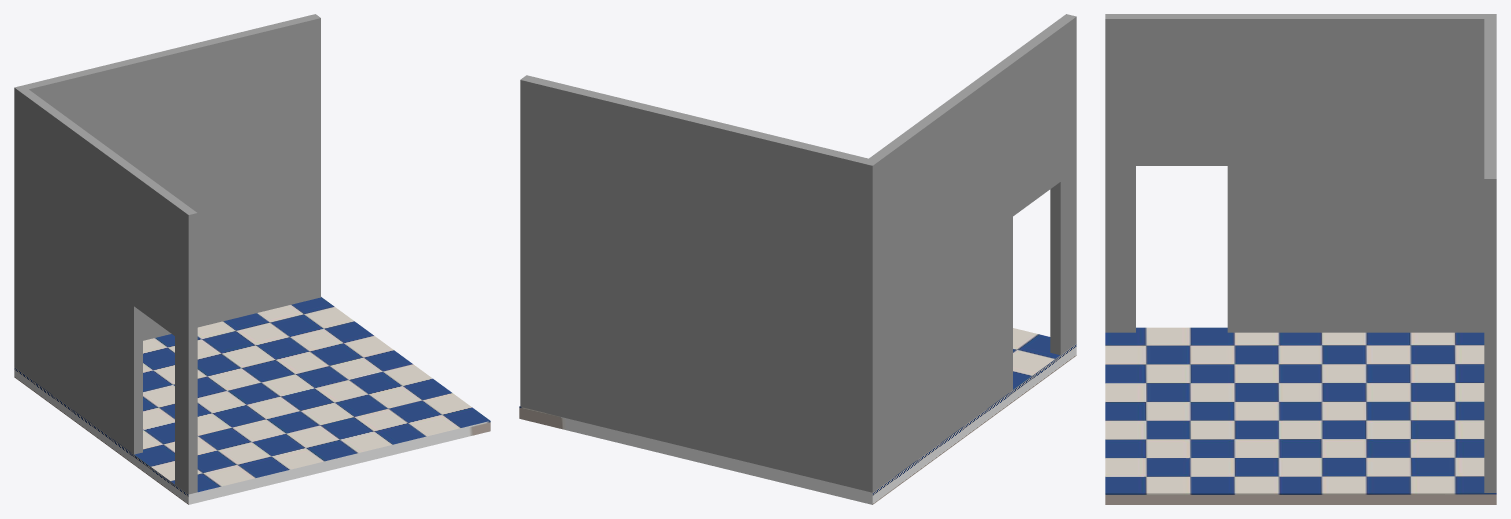
File: WasherRoom.fbx
3 views of the same model, side by side, from view 1: azimuth 30°, elevation 25°; view 2: azimuth 150°, elevation 25°; view 3: azimuth 270°, elevation 25° (orthographic). The views are drawn at different scales.
Visible parts, largest first — view 1: left_foor_pCube3, left_foor_pCube4, pCube1; view 2: left_foor_pCube3, left_foor_pCube4, pCube1; view 3: left_foor_pCube4, pCube1, left_foor_pCube3.
Boxes of the visible parts, bbox=[...] form: left_foor_pCube3: bbox=[23, 14, 320, 340]; left_foor_pCube4: bbox=[14, 85, 197, 494]; pCube1: bbox=[14, 297, 490, 504]; left_foor_pCube3: bbox=[520, 75, 868, 489]; left_foor_pCube4: bbox=[862, 14, 1076, 492]; pCube1: bbox=[519, 328, 1076, 504]; left_foor_pCube4: bbox=[1105, 14, 1496, 332]; pCube1: bbox=[1105, 327, 1496, 504]; left_foor_pCube3: bbox=[1484, 19, 1496, 492].
Size of the model in its own units: 110 by 101 by 110.
2 materials, 1 textured.
